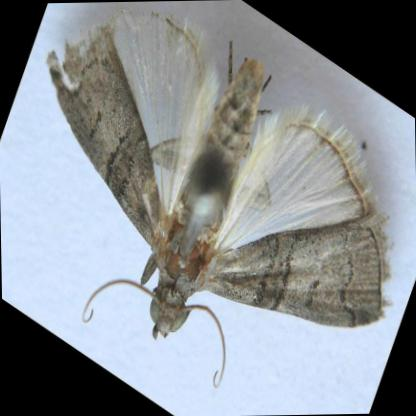Leaf Webber: (50, 8, 385, 336)
